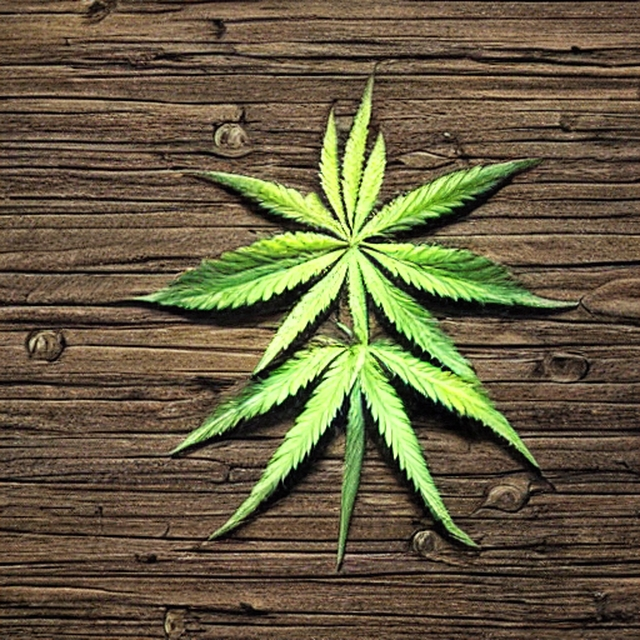Marijuana Leaf: (120, 62, 580, 572)
